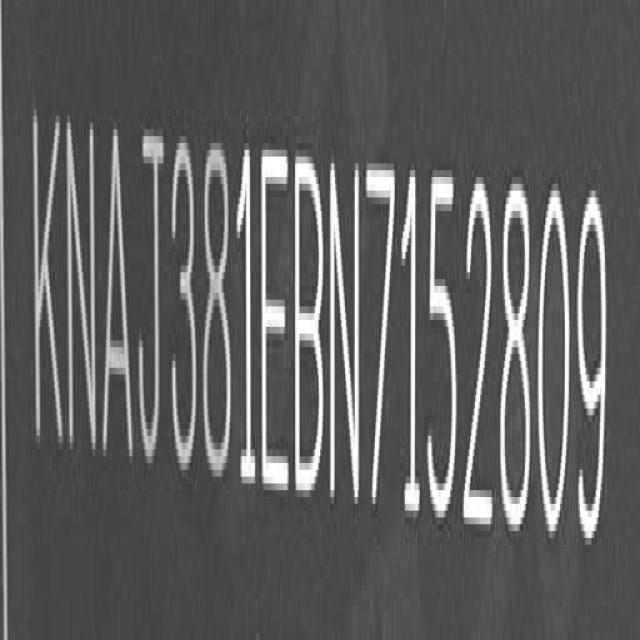0: (533, 189, 571, 540)
1: (398, 164, 424, 512), (234, 154, 258, 492)
2: (464, 172, 495, 542)
5: (426, 159, 462, 524)
7: (364, 154, 397, 514)
8: (497, 177, 532, 542), (198, 139, 233, 484)
9: (578, 189, 607, 545)
A: (101, 111, 134, 466)
B: (290, 139, 326, 512)
E: (257, 129, 292, 507), (171, 144, 199, 482)
J: (137, 88, 166, 484)
K: (31, 104, 66, 462)
N: (326, 136, 364, 515), (65, 91, 99, 461)
